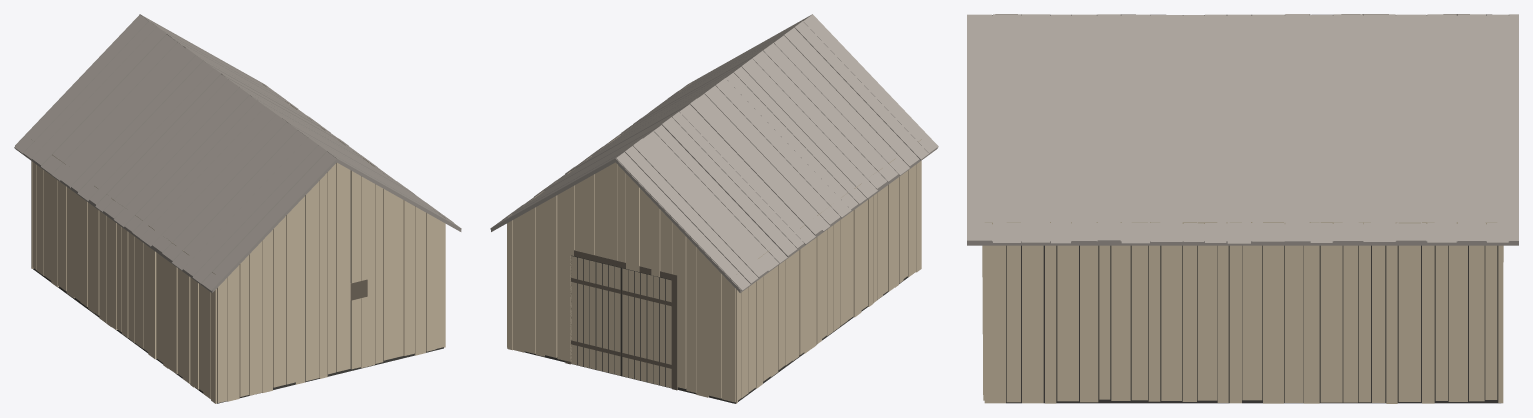
Rendered from recon_1835_south_w1_023__inferred_1835.glb.
The picture shows the model from 3 angles, left to right: view 1: azimuth 30°, elevation 25°; view 2: azimuth 150°, elevation 25°; view 3: azimuth 270°, elevation 25°; orthographic projection. The views are drawn at different scales.
Visible parts, largest first — view 1: recon_1835_south_w1_023__inferred_1835; view 2: recon_1835_south_w1_023__inferred_1835; view 3: recon_1835_south_w1_023__inferred_1835.
Part boxes in pixels (x1,y1,x2,y2): recon_1835_south_w1_023__inferred_1835: (14,14,461,403); recon_1835_south_w1_023__inferred_1835: (490,14,938,403); recon_1835_south_w1_023__inferred_1835: (967,14,1518,403).
Bounding box in the file's own units: 7.27 × 6.13 × 9.83.
